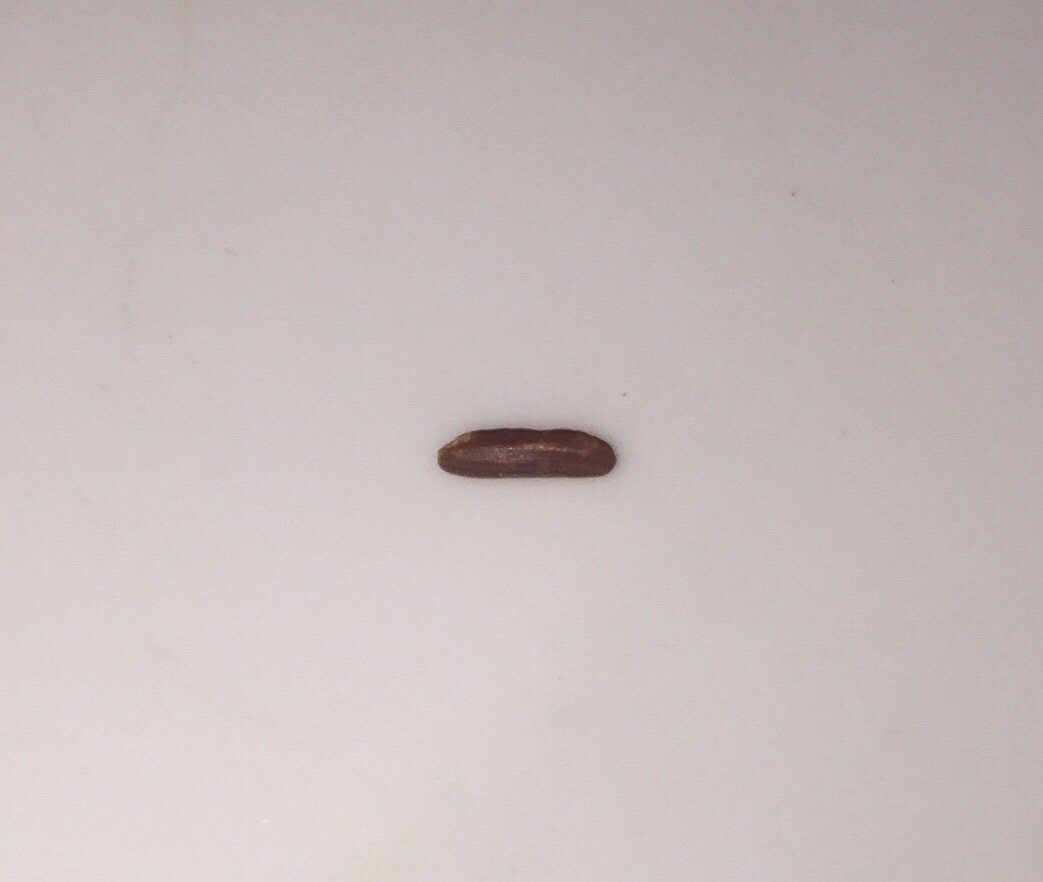Gao Huyet Rong: (435, 408, 618, 503)
